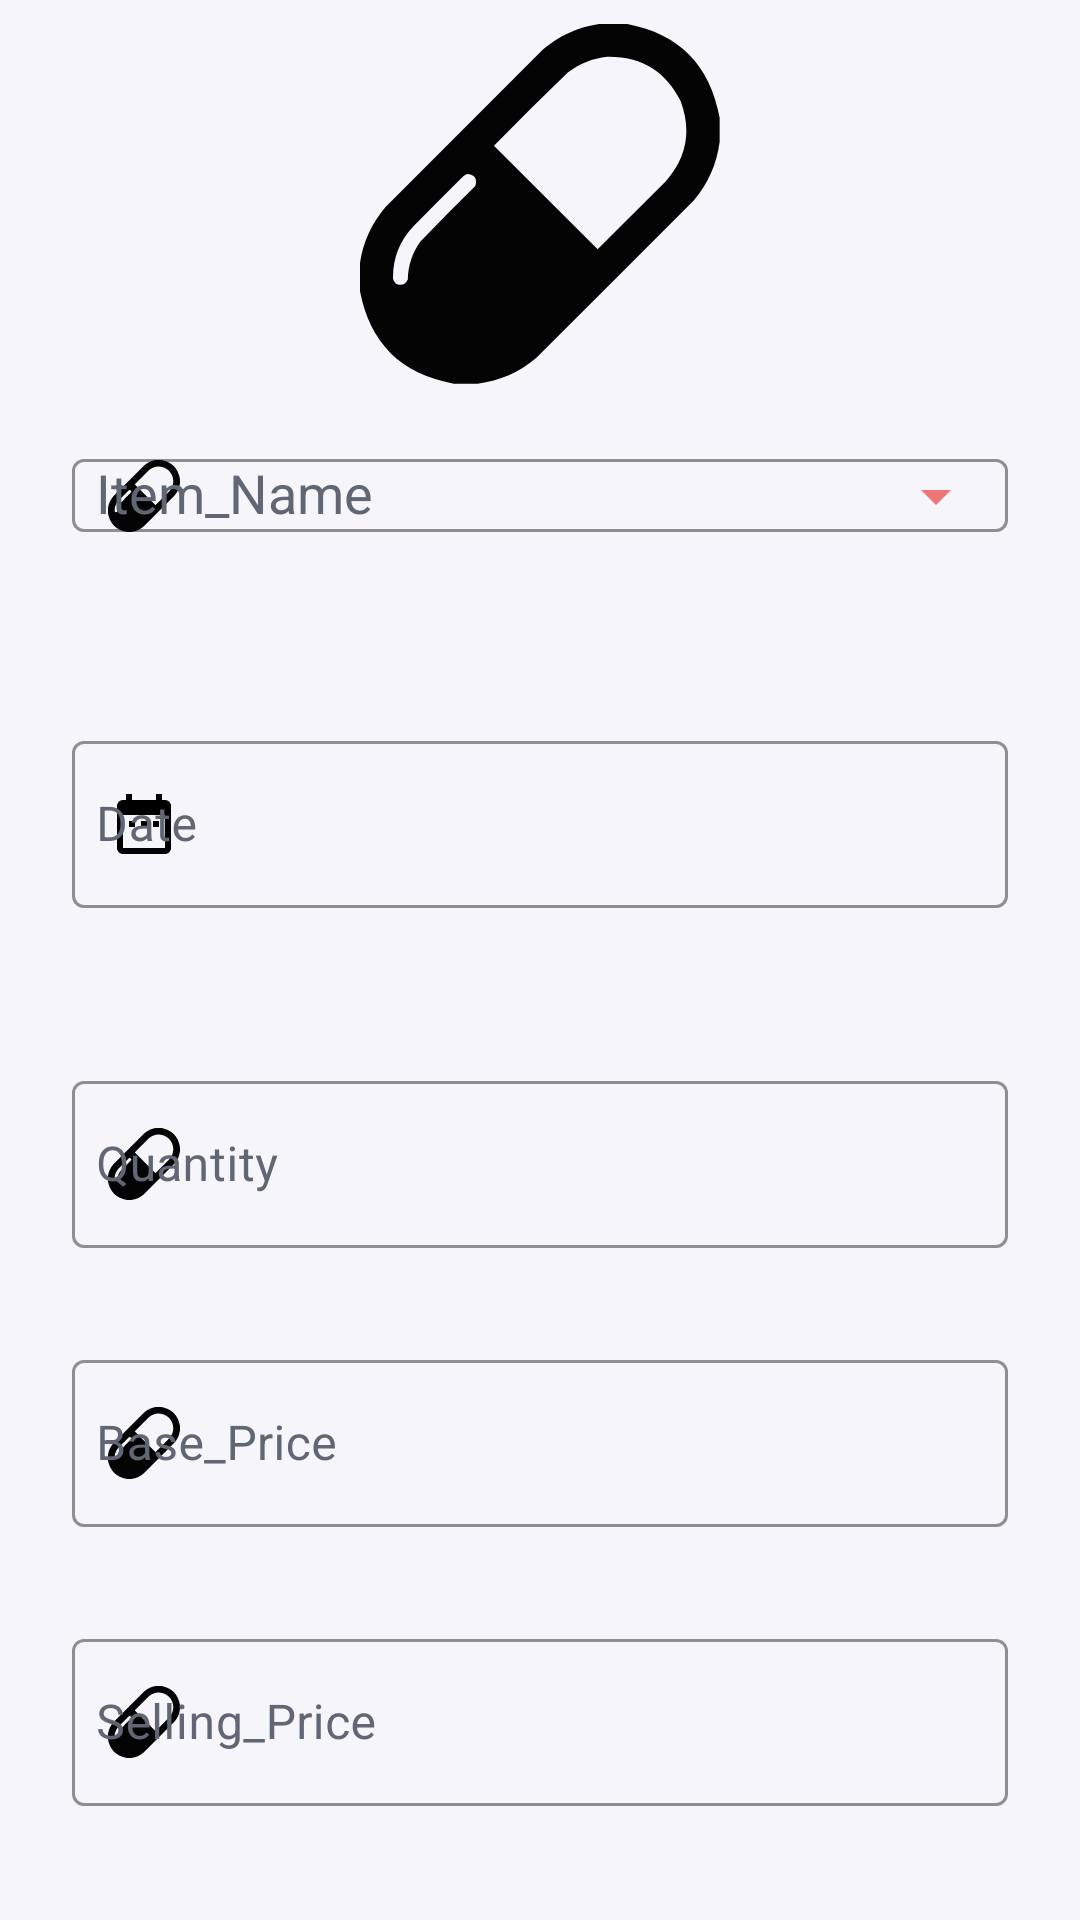

Icon bounding boxes for this 1080px×1920px phone screenshot, format Rect(x1, y1, x2, y2):
pill: Rect(360, 24, 720, 384)
